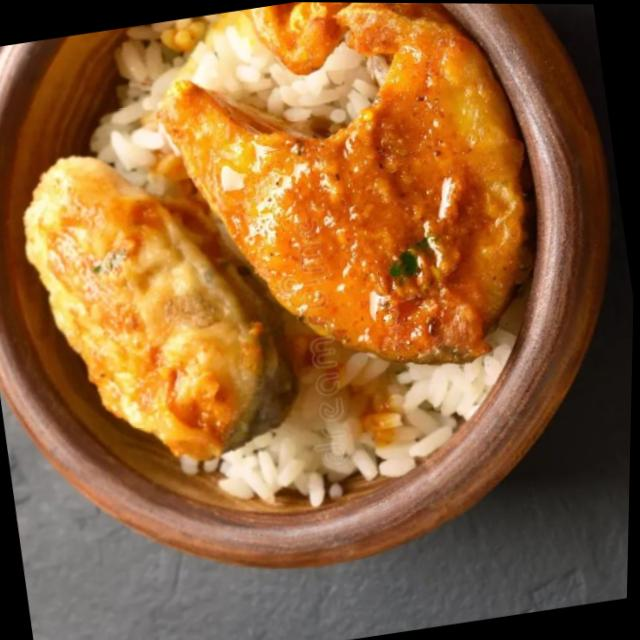FISH CURRY: (153, 3, 524, 363), (22, 155, 292, 463)
